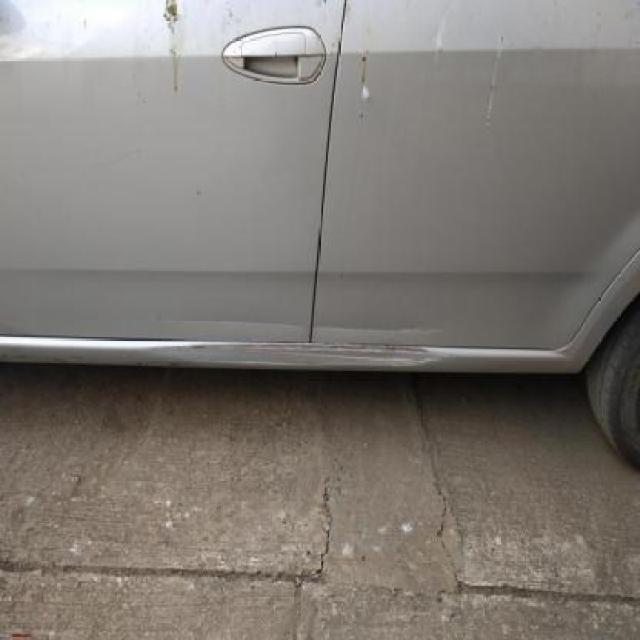RunningBoard-Dent: (142, 316, 439, 379)
doorouter-dent: (1, 3, 313, 339), (314, 0, 585, 348)
